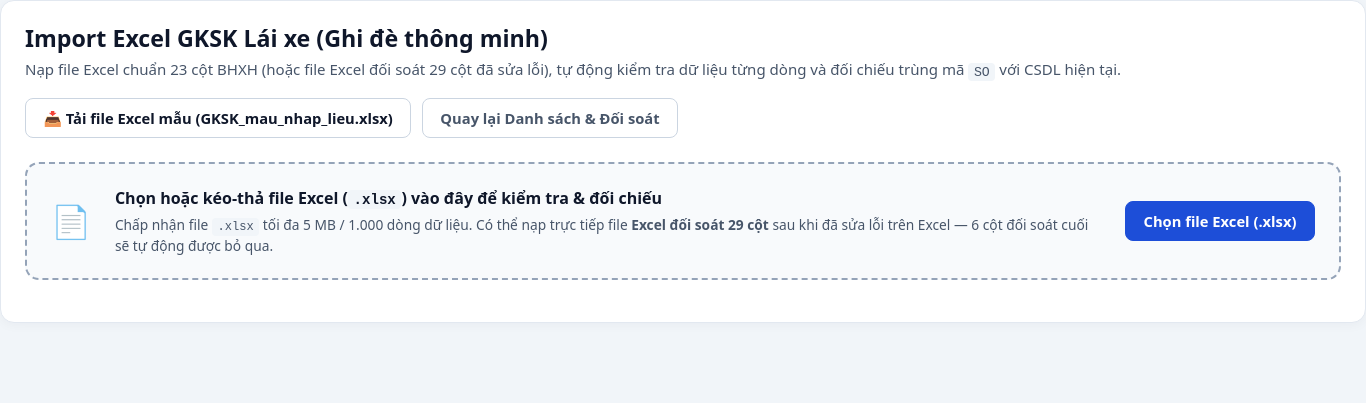
Test case: S14 — IssueList & ImportPage (Import Excel ghi đè thông minh) › 2. Nút Tải file Excel mẫu gọi GET /api/import/template và hiển thị thông báo đã tải
Click the button with test id "download-template-btn" at (218, 118), box [25,98,411,138]
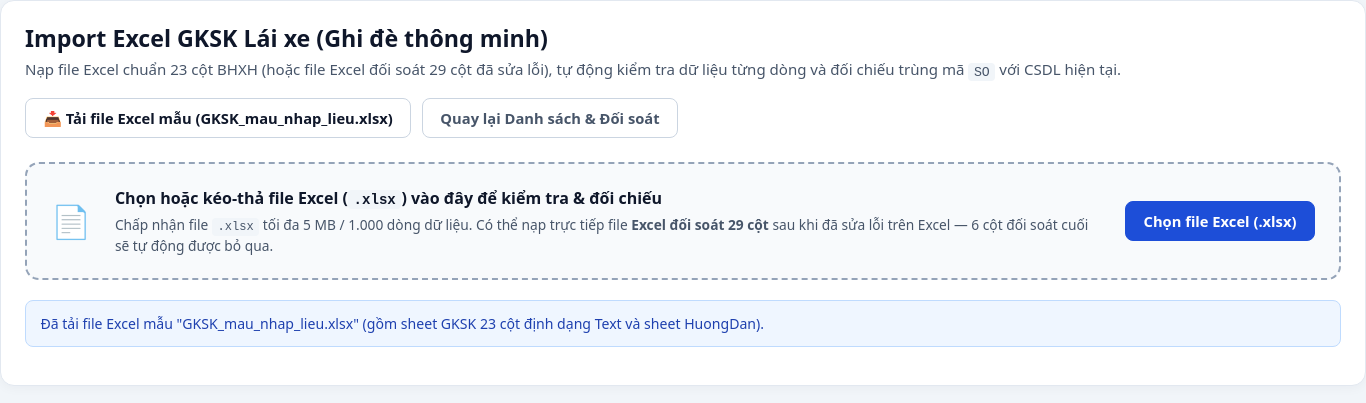
Result: the message with test id "import-status-notice" shows "GKSK_mau_nhap_lieu.xlsx" at [40,314,764,333]
